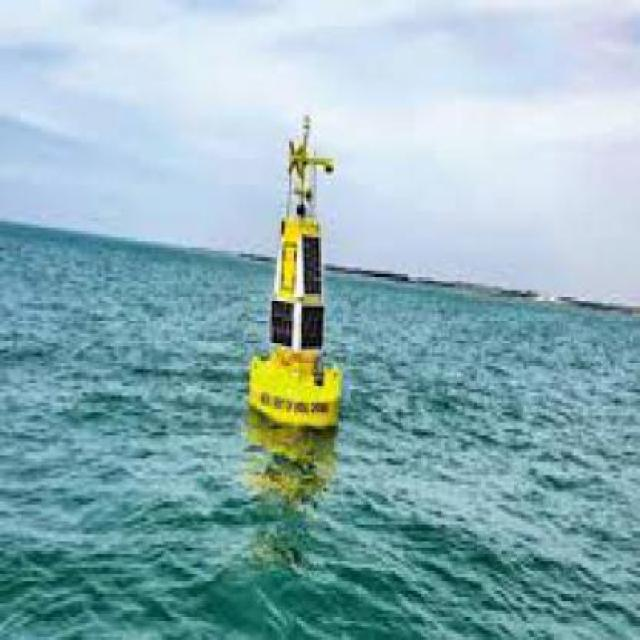buoy: (253, 103, 357, 437)
